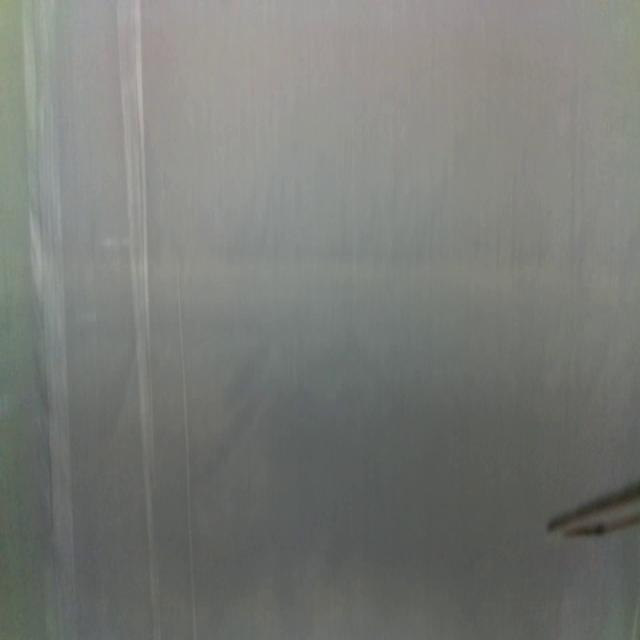crease: (22, 0, 78, 640), (116, 0, 162, 639), (176, 257, 198, 640)
